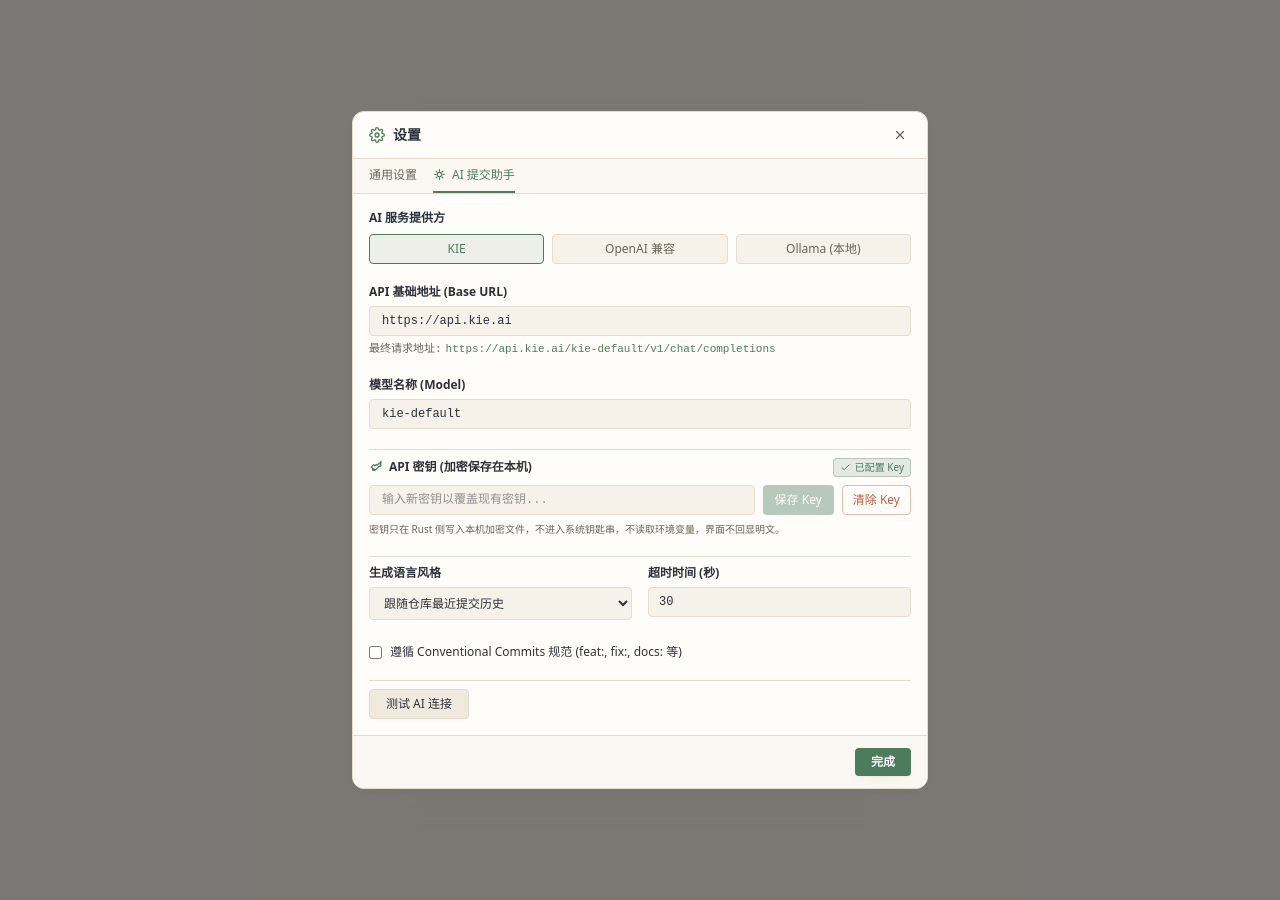
SettingsModal component › AT-13f: switches between providers showing independent key status and allows deleting provider key
The width and height of the screenshot is (1280, 900).
Expected: the text "已配置 Key" is shown, [833,458,911,477]
Note: Click "清除 Key" on KIE
Click the button "清除 Key" at coordinates (876, 500), box [842,485,911,515]
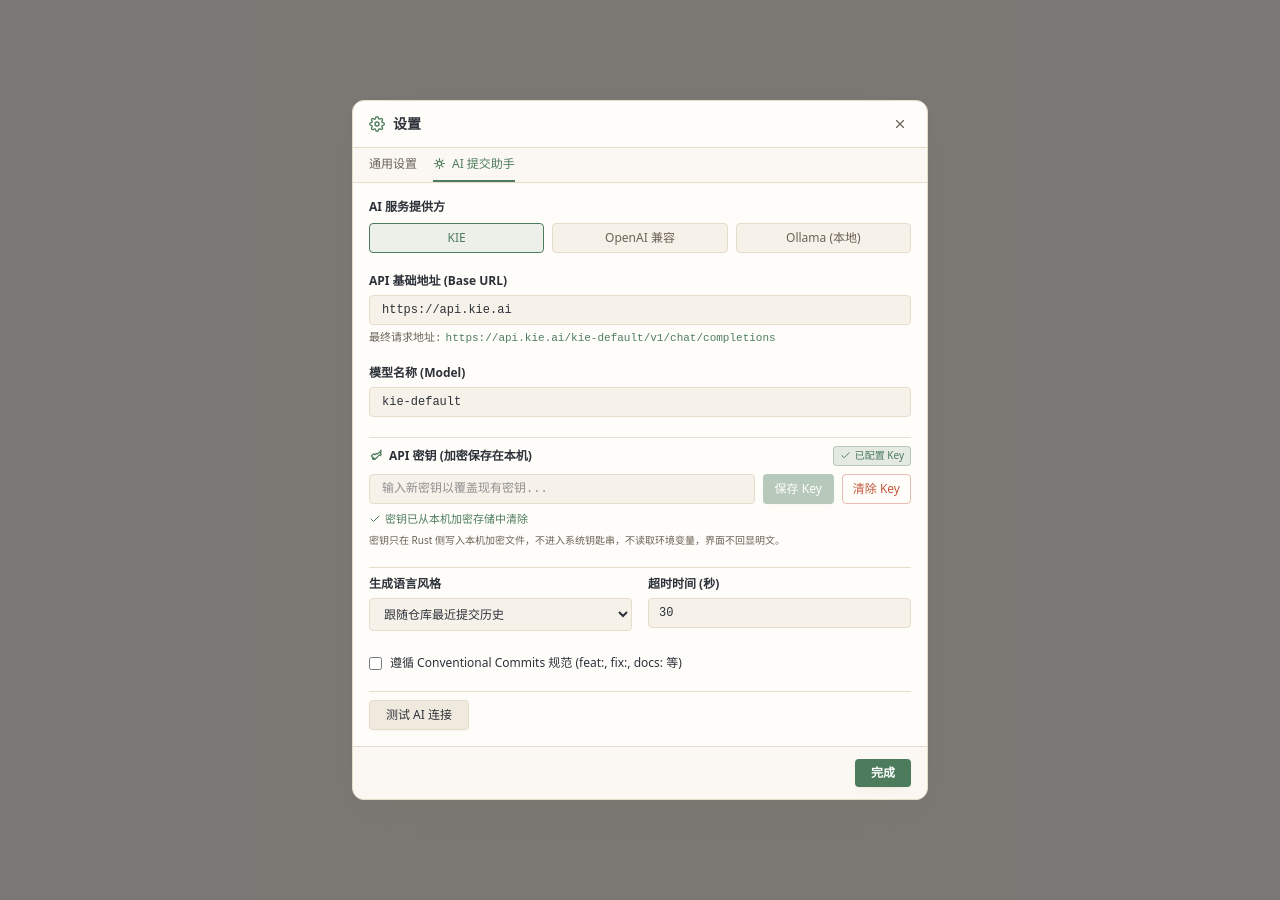
Note: Switch to OpenAI: currently not configured
Click the button "OpenAI 兼容" at coordinates (640, 238), box [552,222,728,252]
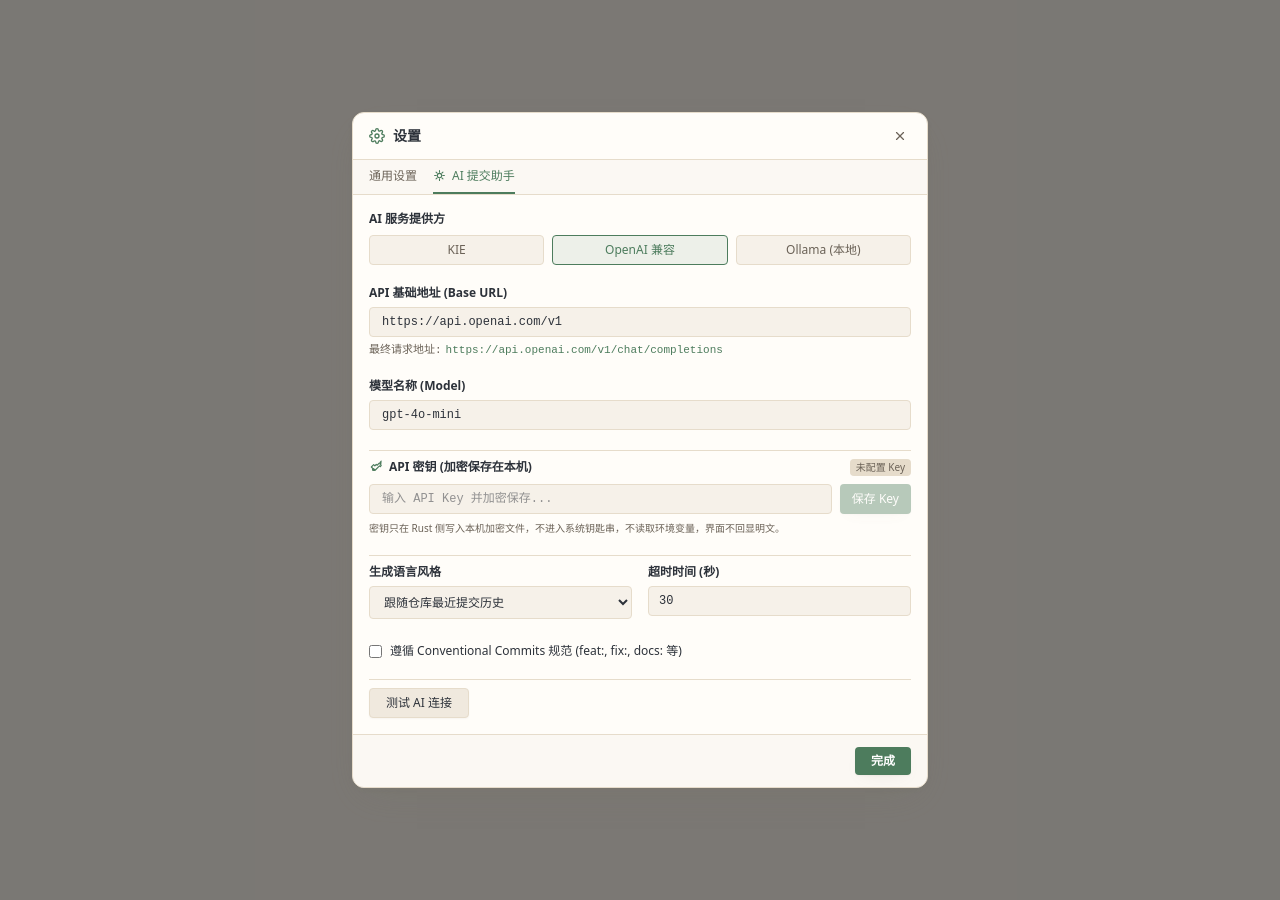
Result: the password field with placeholder "输入 API Key 并加密保存..." is shown at [369,484,832,514]
Result: the text "未配置 Key" is shown at [850,458,911,476]
